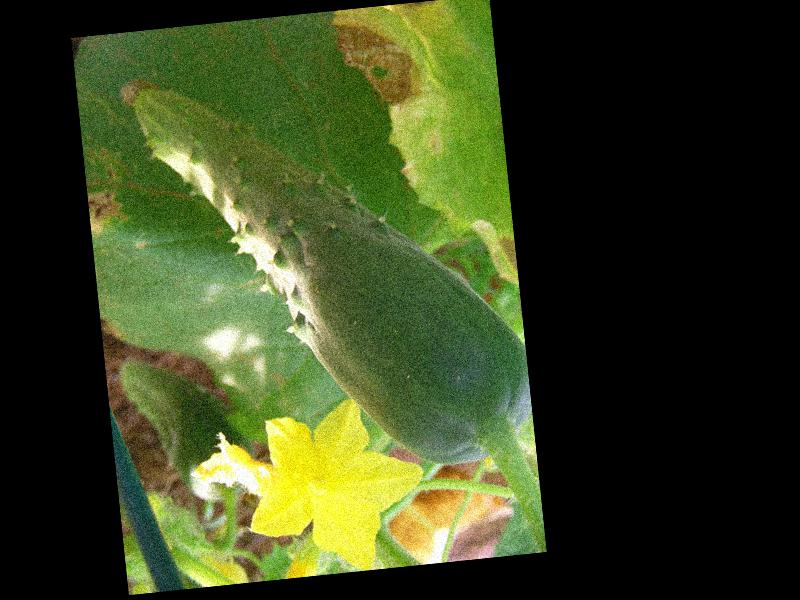Cucumber: (118, 43, 535, 494)
